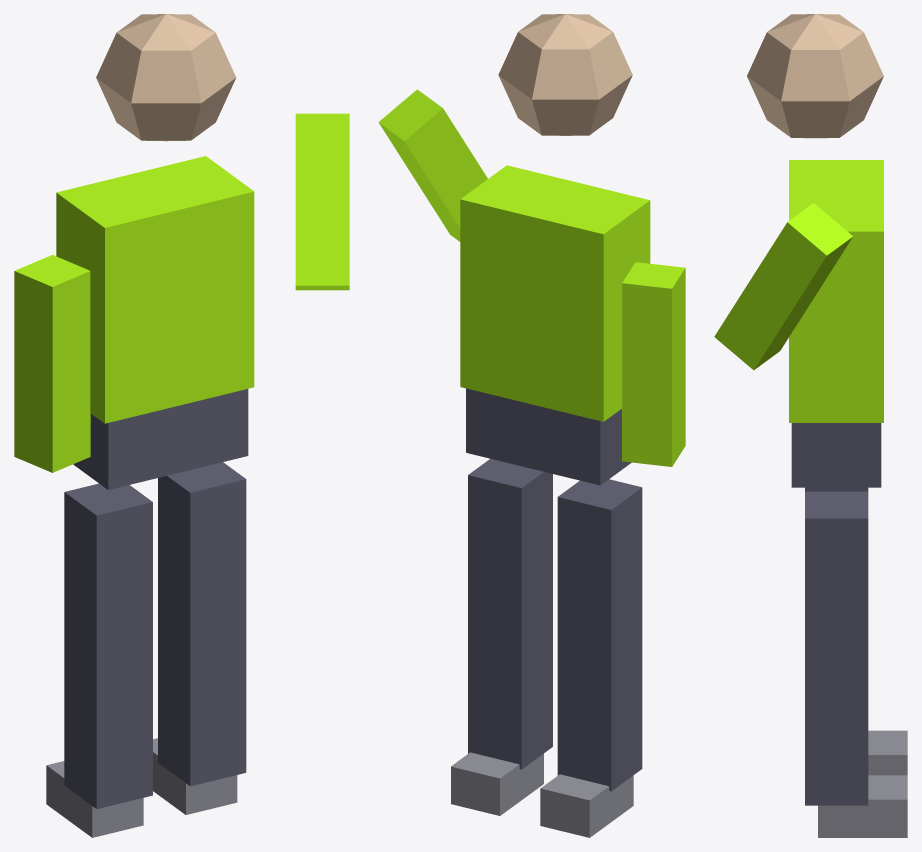
Rendered from espectador_mirando.glb.
3 renders of one model, left to right at view 1: azimuth 30°, elevation 25°; view 2: azimuth 150°, elevation 25°; view 3: azimuth 270°, elevation 25°, orthographic. The views are drawn at different scales.
Parts seen in each view (by area): view 1: espectador_mirando; view 2: espectador_mirando; view 3: espectador_mirando.
Boxes of the visible parts, x1,y1,x2,y2 form: espectador_mirando: (14, 14, 349, 837); espectador_mirando: (378, 14, 685, 837); espectador_mirando: (714, 14, 907, 837).
Bounding box in the file's own units: 0.6862 × 1.65 × 0.3668.
